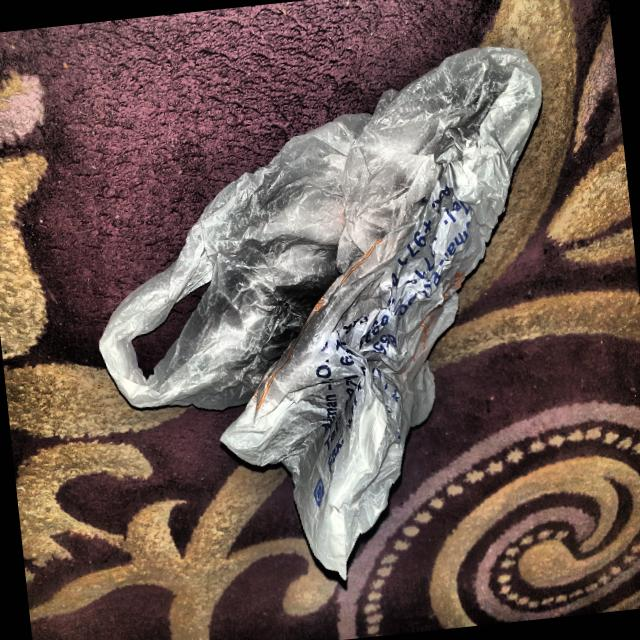plastic bag: (60, 19, 601, 610)
